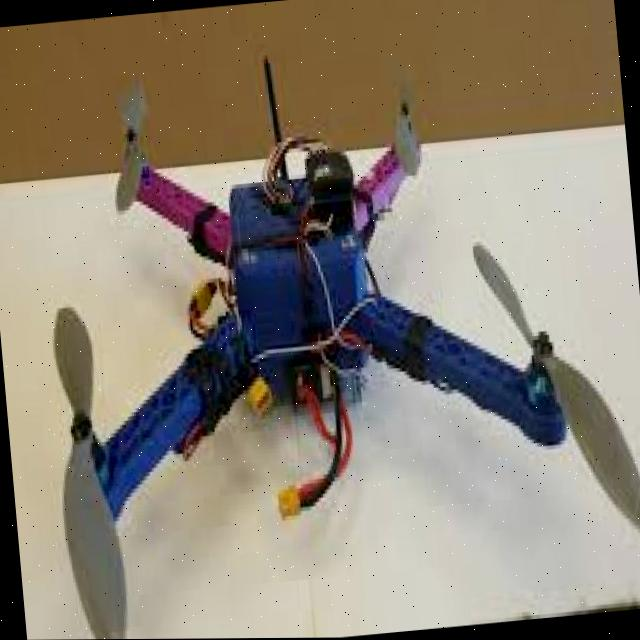drone: (20, 35, 640, 640)
